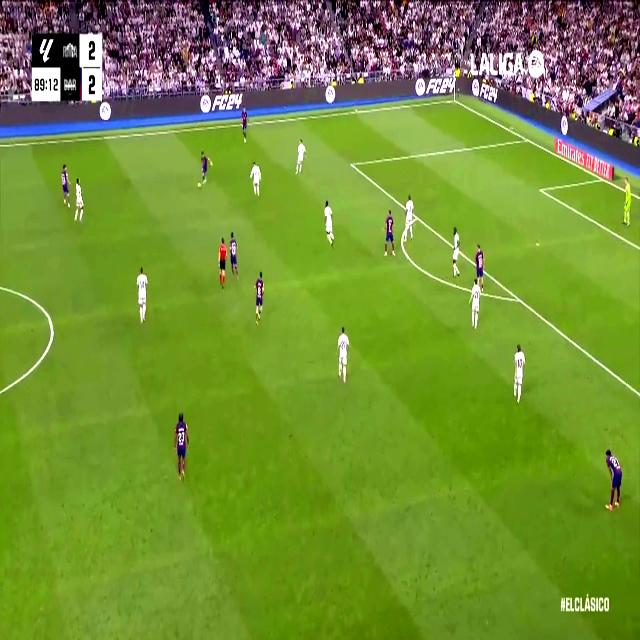bigarea_top_inner: (348, 156, 355, 172)
bigarea_top_outter: (522, 132, 530, 145)
bottom_arc_area_intersection: (514, 289, 524, 307)
corner: (449, 94, 458, 105)
smallarea_top_inner: (537, 182, 545, 198)
top_arc_area_intersection: (412, 208, 420, 225)
